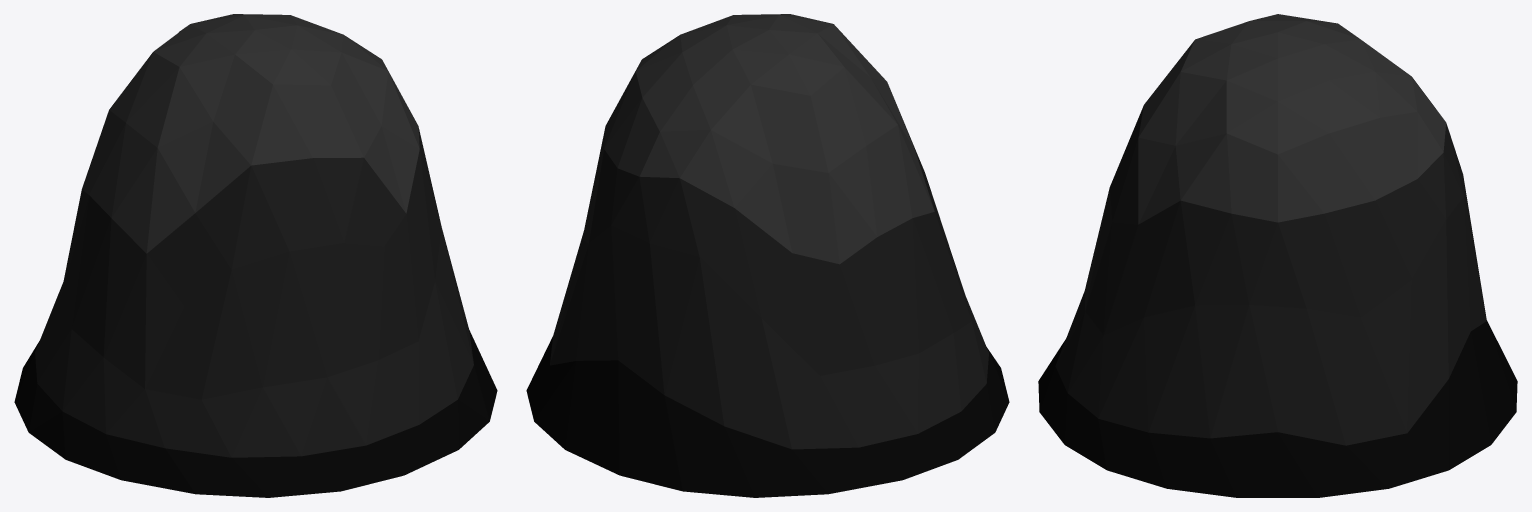
The model's file is basura1.fbx.
3 views of the same model, side by side, from view 1: azimuth 30°, elevation 25°; view 2: azimuth 150°, elevation 25°; view 3: azimuth 270°, elevation 25° (orthographic).
Visible parts, largest first — view 1: Basura3; view 2: Basura3; view 3: Basura3.
Boxes of the visible parts, x1,y1,x2,y2 form: Basura3: (14, 14, 497, 497); Basura3: (526, 14, 1009, 497); Basura3: (1038, 14, 1517, 497).
Bounding box in the file's own units: 1091 × 922 × 1095.
1 material, 1 textured.
